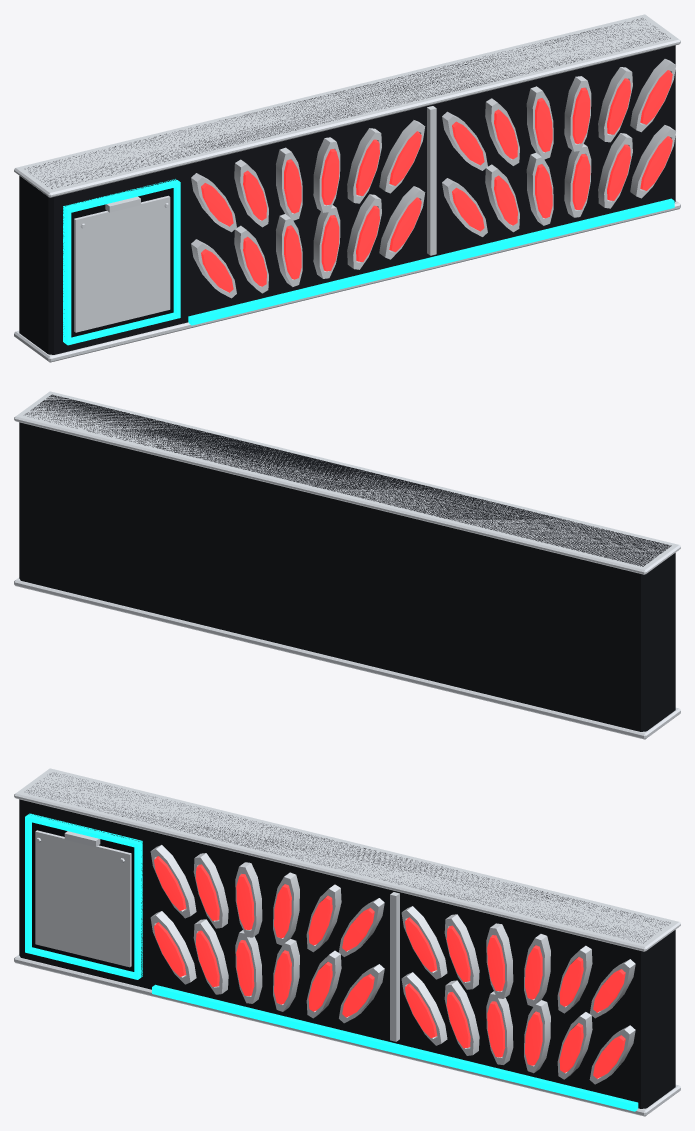
The model's file is rb_torpedo.glb.
3 views of the same model, one above another, from view 1: azimuth 30°, elevation 25°; view 2: azimuth 150°, elevation 25°; view 3: azimuth 330°, elevation 25° (orthographic).
Visible parts, largest first — view 1: rb_torpedo_deco_body, rb_torpedo_chrome, rb_torpedo_lamp_tail, rb_torpedo_deco_plate, rb_torpedo_deco_neon, rb_torpedo_deco_trim; view 2: rb_torpedo_deco_body, rb_torpedo_chrome; view 3: rb_torpedo_deco_body, rb_torpedo_chrome, rb_torpedo_lamp_tail, rb_torpedo_deco_plate, rb_torpedo_deco_neon, rb_torpedo_deco_trim.
Part boxes in pixels (<box>): rb_torpedo_deco_body: <box>19,18,675,354</box>; rb_torpedo_chrome: <box>14,14,680,362</box>; rb_torpedo_lamp_tail: <box>201,70,672,292</box>; rb_torpedo_deco_plate: <box>74,195,170,332</box>; rb_torpedo_deco_neon: <box>63,179,674,345</box>; rb_torpedo_deco_trim: <box>63,179,176,337</box>; rb_torpedo_deco_body: <box>19,394,675,731</box>; rb_torpedo_chrome: <box>14,391,680,739</box>; rb_torpedo_deco_body: <box>19,773,675,1108</box>; rb_torpedo_chrome: <box>14,768,680,1116</box>; rb_torpedo_lamp_tail: <box>154,856,625,1078</box>; rb_torpedo_deco_plate: <box>35,830,131,967</box>; rb_torpedo_deco_neon: <box>25,813,638,1111</box>; rb_torpedo_deco_trim: <box>29,814,142,976</box>.
Bounding box in the file's own units: 2.42 × 0.62 × 0.2872.
